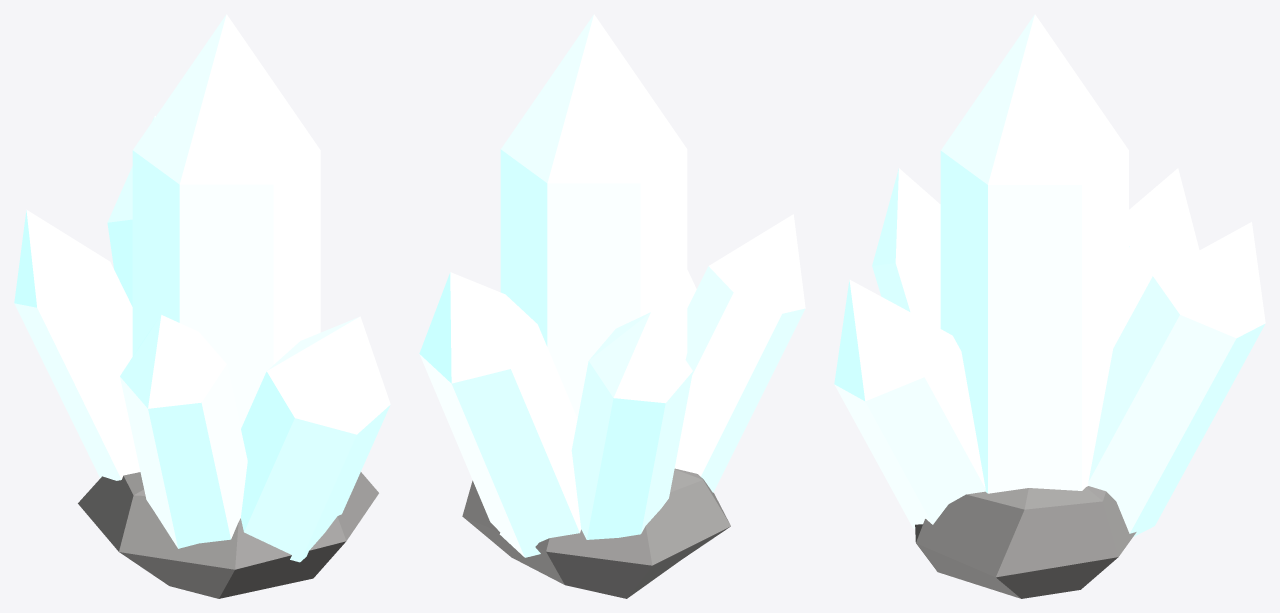
The model's file is arena_gem_blue.glb.
3 renders of one model, left to right at view 1: azimuth 30°, elevation 25°; view 2: azimuth 150°, elevation 25°; view 3: azimuth 270°, elevation 25°, orthographic.
Parts seen in each view (by area): view 1: arena_gem_blue; view 2: arena_gem_blue; view 3: arena_gem_blue.
Part boxes in pixels (box(x1,y1,x2,y2)): arena_gem_blue: box(14, 14, 390, 598); arena_gem_blue: box(419, 14, 805, 598); arena_gem_blue: box(834, 14, 1265, 598).
Size of the model in its own units: 1.11 by 2.12 by 1.47.
